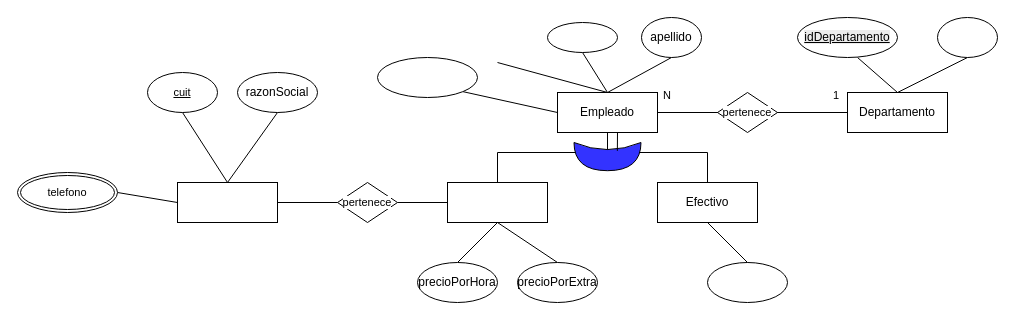
The diagram is 1015 pixels wide and 320 high, and some of its shapes have lost their labels. Here are the shapes that lost their labels. From the top down, the centre of each, then its label:
the point at 582,37: nombre
the point at 967,37: descripcion
the point at 427,77: nroLegajo
the point at 227,202: Consultora
the point at 497,202: Contratado
the point at 747,282: sueldo
